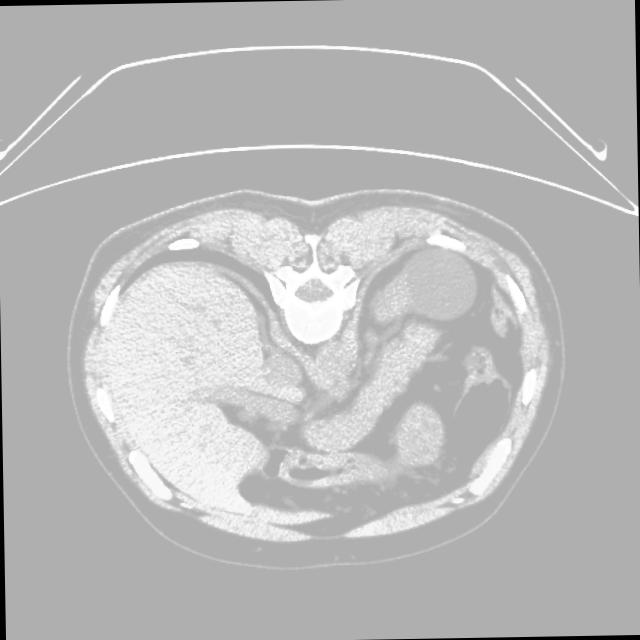cysts: (63, 182, 567, 567)
